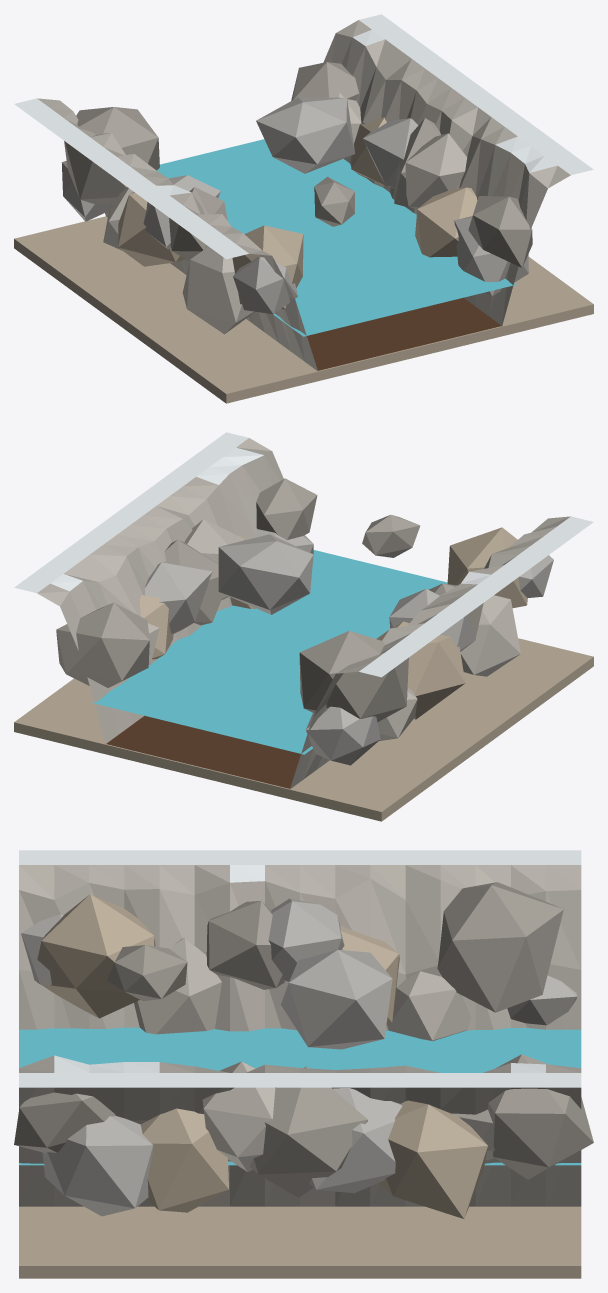
File: stream_straight.glb
The picture shows the model from 3 angles, top to bottom: view 1: azimuth 30°, elevation 25°; view 2: azimuth 150°, elevation 25°; view 3: azimuth 270°, elevation 25°; orthographic projection. The views are drawn at different scales.
Visible parts, largest first — view 1: stream_straight, part_flow; view 2: stream_straight, part_flow; view 3: stream_straight, part_flow.
Boxes of the visible parts, x1,y1,x2,y2 form: stream_straight: (14,14,593,403); part_flow: (157,139,516,336); stream_straight: (14,432,593,821); part_flow: (91,550,447,754); stream_straight: (14,850,593,1278); part_flow: (19,1027,581,1165).
Size of the model in its own units: 2 by 0.8585 by 2.06.
